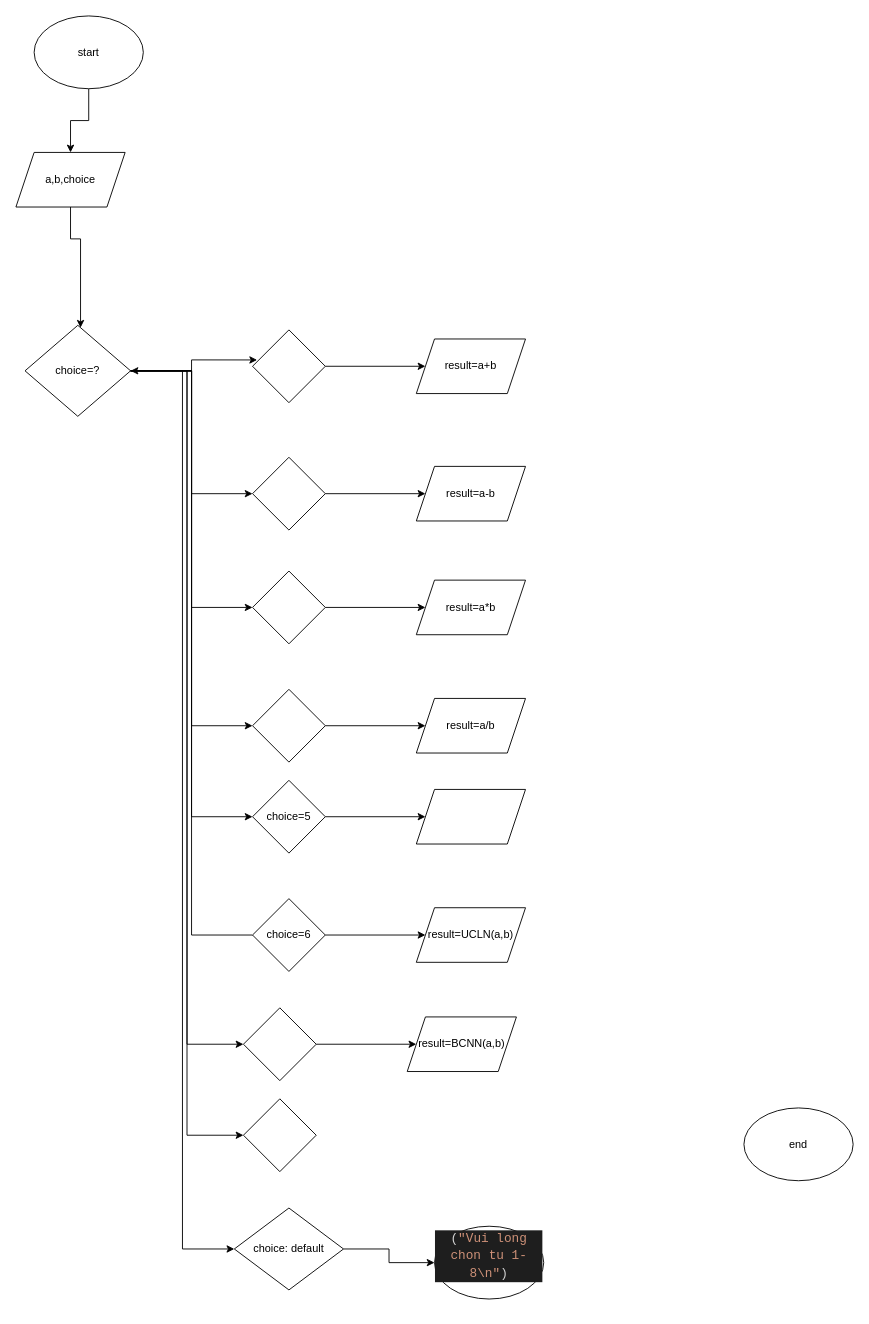
Image size: 869x1324. Some labels were removed from this diagram. Each missing label, with the centre of its shape:
"choice=1" belongs at point (288, 366).
"choice=2" belongs at point (288, 493).
"choice=3" belongs at point (288, 607).
"choice=4" belongs at point (288, 725).
"choice=7" belongs at point (279, 1044).
"choice=8" belongs at point (279, 1135).
"result=a%b" belongs at point (470, 816).
